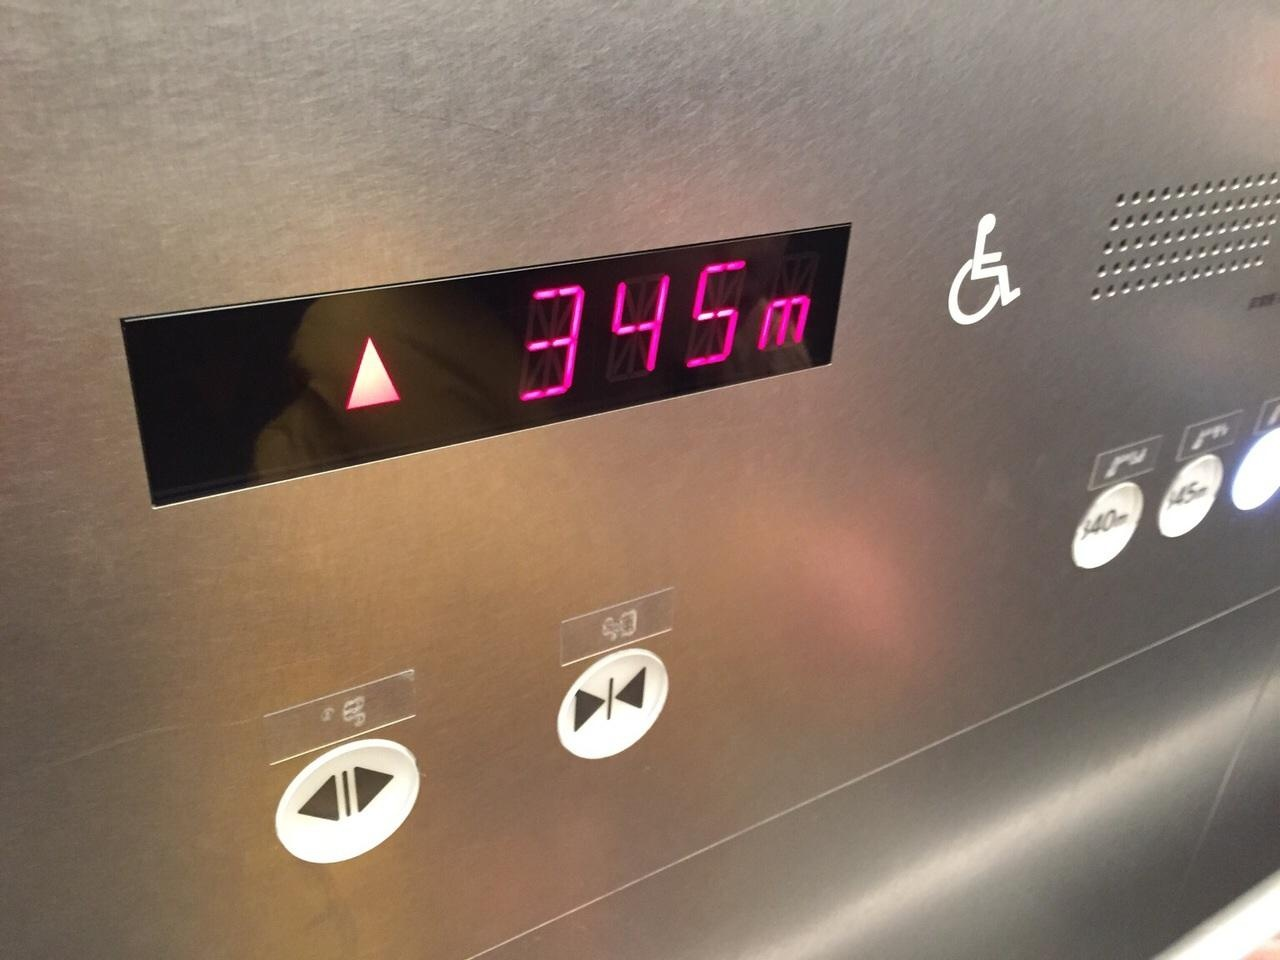close: (558, 644, 673, 760)
empty: (1229, 424, 1280, 511)
led: (119, 223, 852, 508)
open: (274, 739, 421, 867)
text_340m: (1070, 479, 1145, 570)
text_345m: (1158, 454, 1226, 539)
